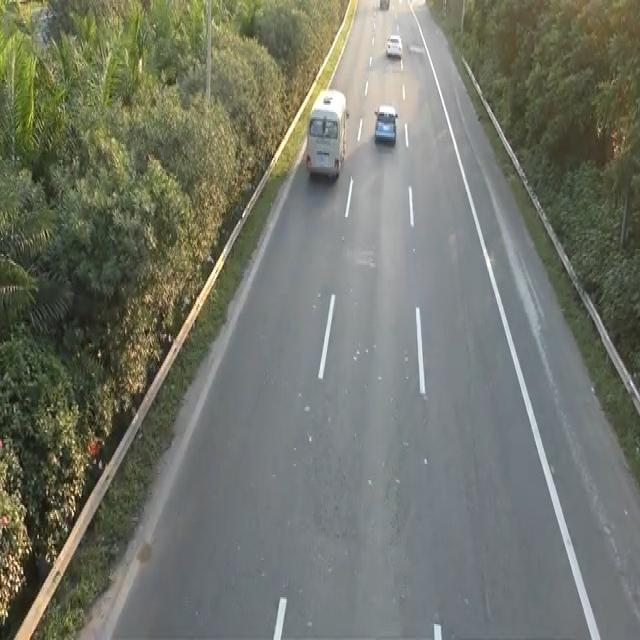bus: (373, 101, 398, 148)
jeep: (304, 85, 349, 183)
